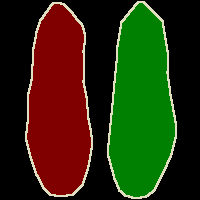shoe: (108, 2, 176, 198), (26, 2, 92, 196)
